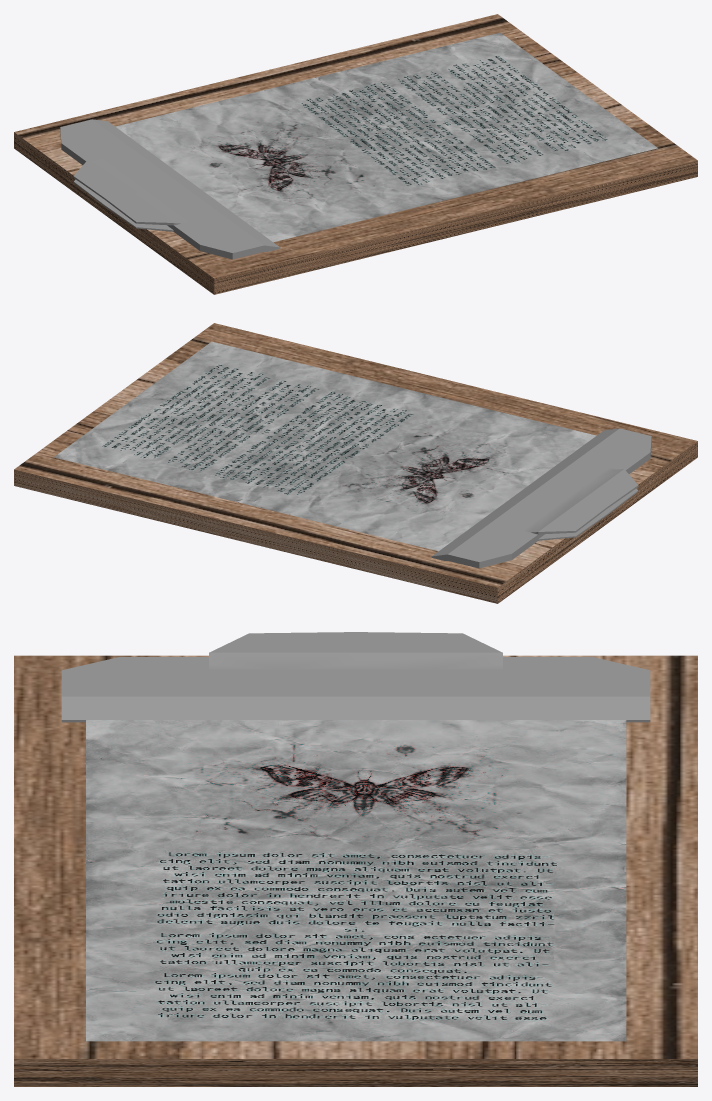
Rendered from clipboard.fbx.
The picture shows the model from 3 angles, top to bottom: view 1: azimuth 30°, elevation 25°; view 2: azimuth 150°, elevation 25°; view 3: azimuth 270°, elevation 25°; orthographic projection. The views are drawn at different scales.
Visible parts, largest first — view 1: clipboard2; view 2: clipboard2; view 3: clipboard2.
Part boxes in pixels (bbox=[...]): clipboard2: bbox=[14, 14, 697, 294]; clipboard2: bbox=[14, 323, 697, 603]; clipboard2: bbox=[14, 632, 697, 1086].
Size of the model in its own units: 1.03 by 0.0521 by 0.7232.
Materials: 3 (2 with a texture image).
